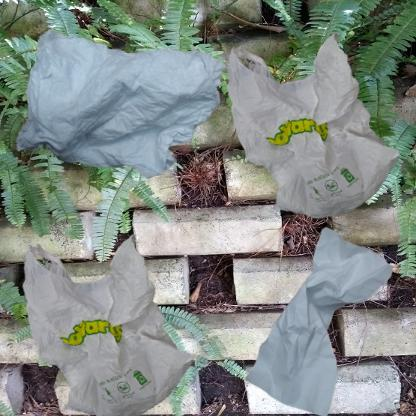bolsa: (213, 10, 416, 256), (10, 213, 217, 416)
papel: (10, 10, 249, 210), (213, 213, 416, 416)
